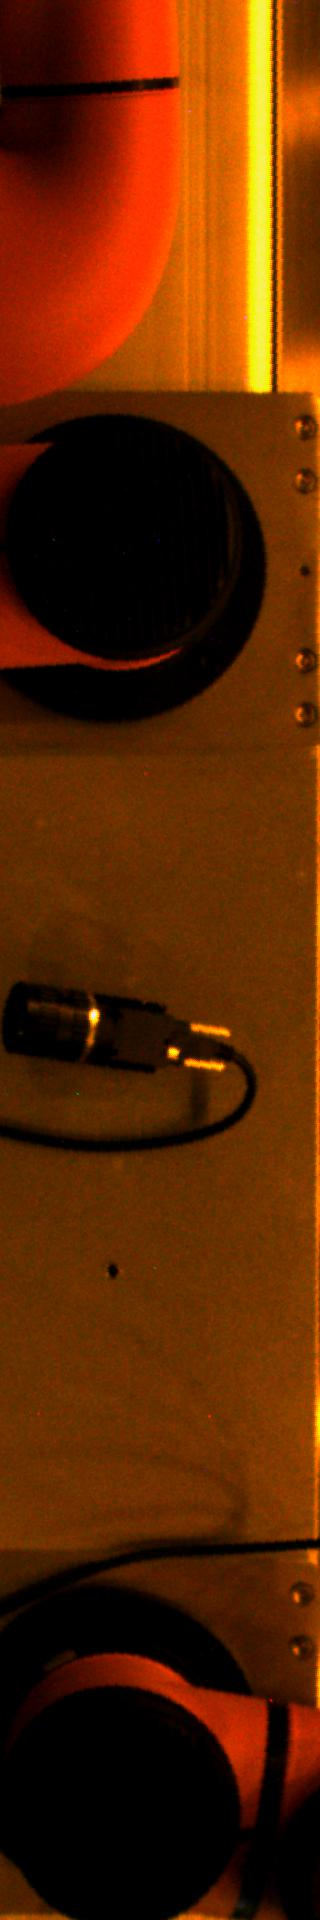keyPoint_2: (97, 1255, 128, 1284)
